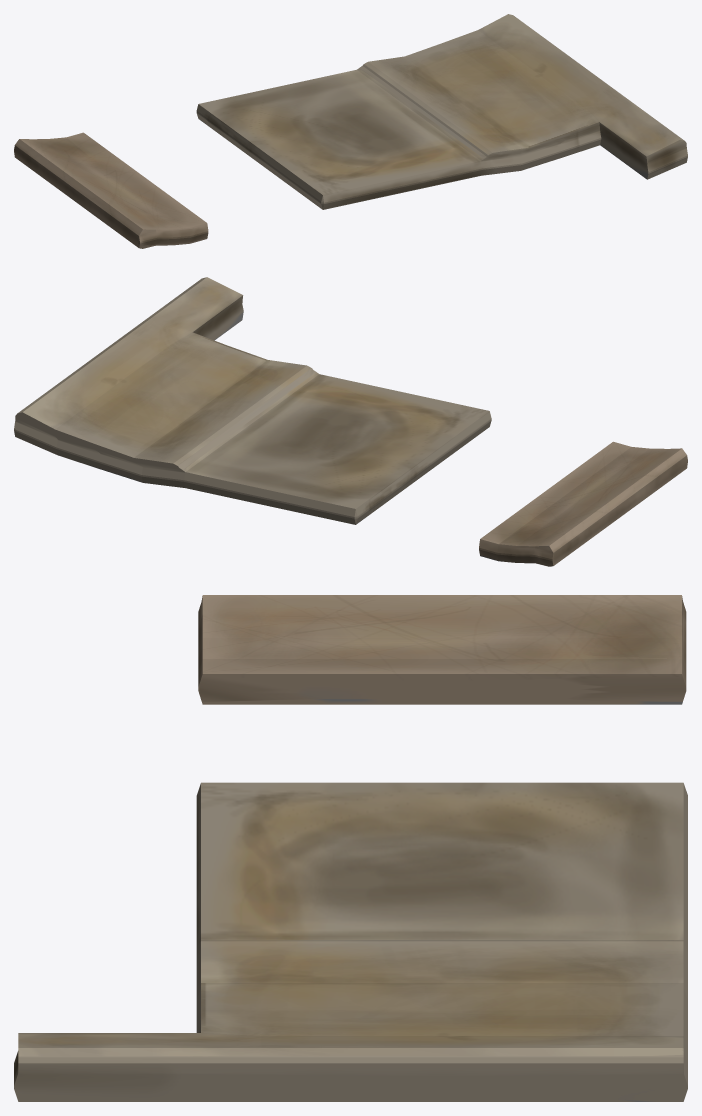
Rendered from leveldesignroofs.fbx.
The picture shows the model from 3 angles, top to bottom: view 1: azimuth 30°, elevation 25°; view 2: azimuth 150°, elevation 25°; view 3: azimuth 270°, elevation 25°; orthographic projection. The views are drawn at different scales.
Visible parts, largest first — view 1: pCube42, pCube57; view 2: pCube42, pCube57; view 3: pCube42, pCube57.
Part boxes in pixels (bbox=[...]): pCube42: bbox=[196, 14, 687, 209]; pCube57: bbox=[14, 132, 208, 248]; pCube42: bbox=[14, 277, 491, 524]; pCube57: bbox=[479, 441, 687, 566]; pCube42: bbox=[14, 782, 687, 1101]; pCube57: bbox=[198, 595, 686, 704].
Size of the model in its own units: 3599 by 264 by 2165.
